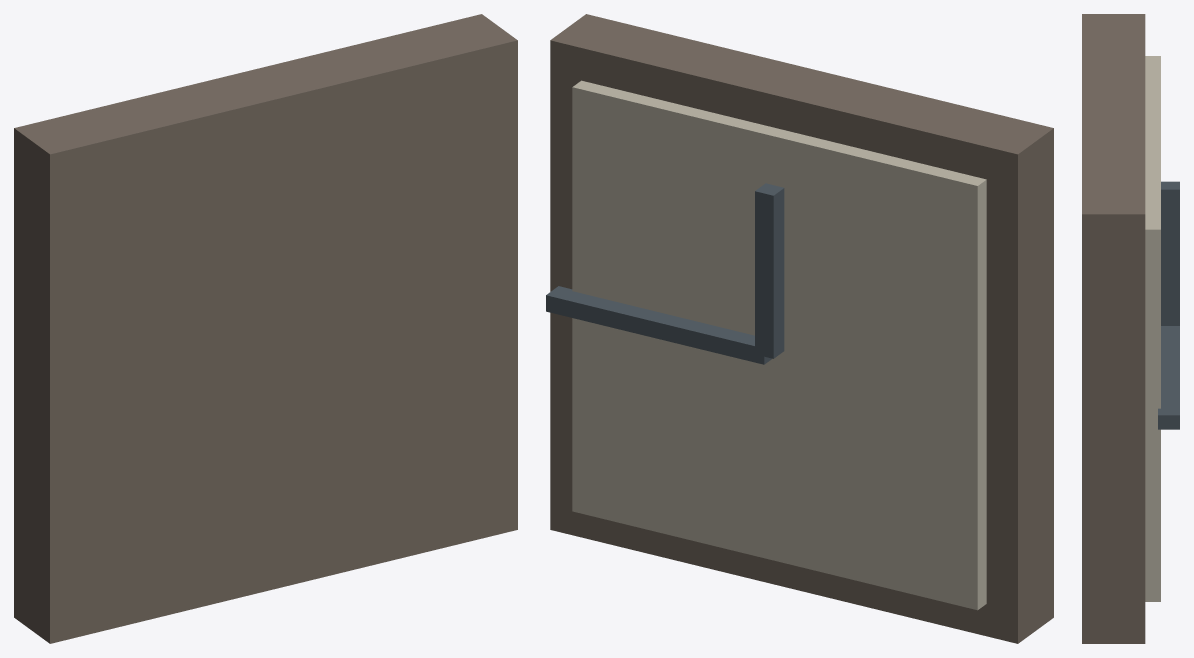
The model's file is wall_clock.glb.
3 renders of one model, left to right at view 1: azimuth 30°, elevation 25°; view 2: azimuth 150°, elevation 25°; view 3: azimuth 270°, elevation 25°, orthographic. The views are drawn at different scales.
Visible parts, largest first — view 1: body; view 2: body, minute_hand, hour_hand; view 3: body, hour_hand, minute_hand.
Boxes of the visible parts, box(x1,y1,x2,y2) form: body: box(14, 14, 517, 643); body: box(550, 14, 1053, 643); minute_hand: box(546, 286, 771, 364); hour_hand: box(755, 183, 784, 358); body: box(1082, 14, 1160, 643); hour_hand: box(1161, 181, 1179, 325); minute_hand: box(1158, 326, 1179, 429).
Bounding box in the file's own units: 0.3 × 0.3 × 0.062.
